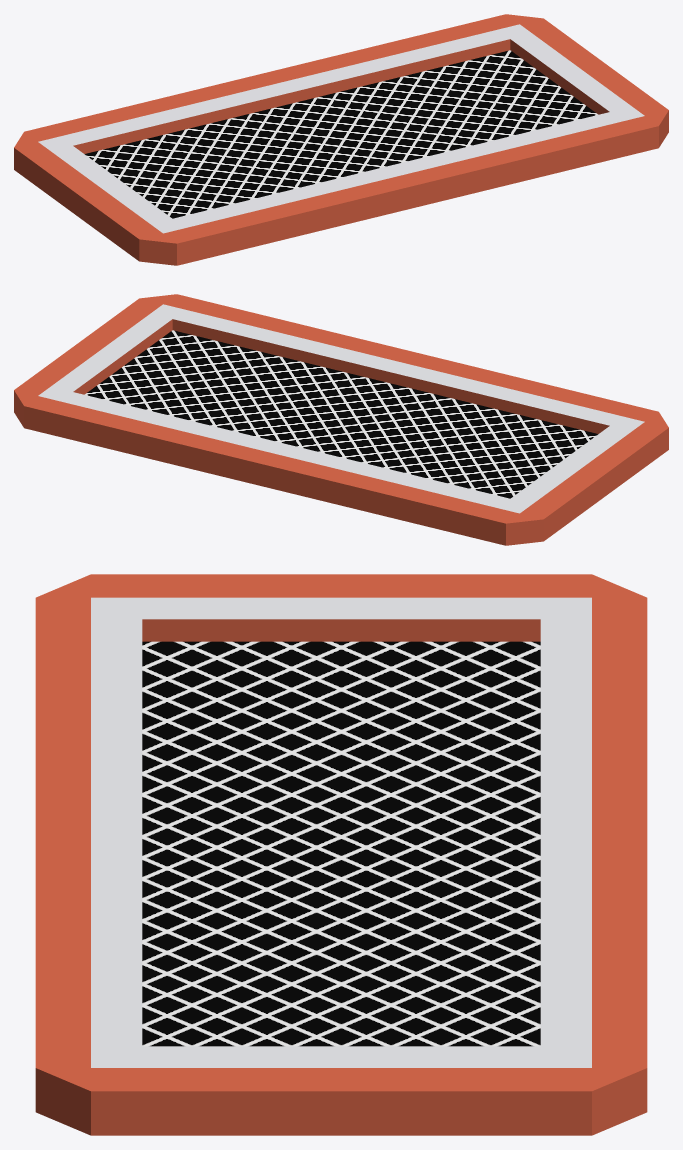
Rendered from metalTileDouble.fbx.
3 renders of one model, top to bottom at view 1: azimuth 30°, elevation 25°; view 2: azimuth 150°, elevation 25°; view 3: azimuth 270°, elevation 25°, orthographic. The views are drawn at different scales.
Visible parts, largest first — view 1: metalTileDouble; view 2: metalTileDouble; view 3: metalTileDouble.
Part boxes in pixels (box(x1,y1,x2,y2)): metalTileDouble: box(14, 14, 668, 265); metalTileDouble: box(14, 294, 668, 545); metalTileDouble: box(35, 574, 647, 1135).
Size of the model in its own units: 20 by 0.8 by 10.
